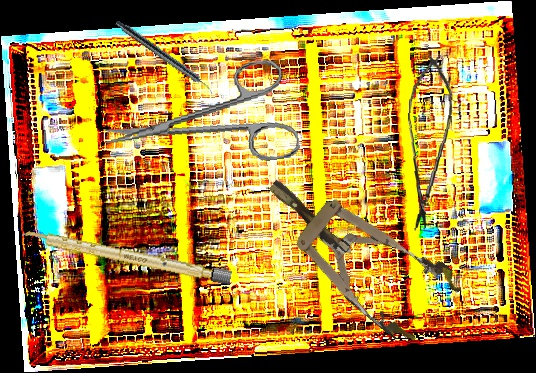Handpiece: (112, 18, 218, 97)
Iris Scissors: (96, 57, 302, 183)
Micro Scissor: (400, 51, 456, 234)
Scalpel Handle: (20, 227, 233, 285)
Speculum: (245, 148, 467, 352)
